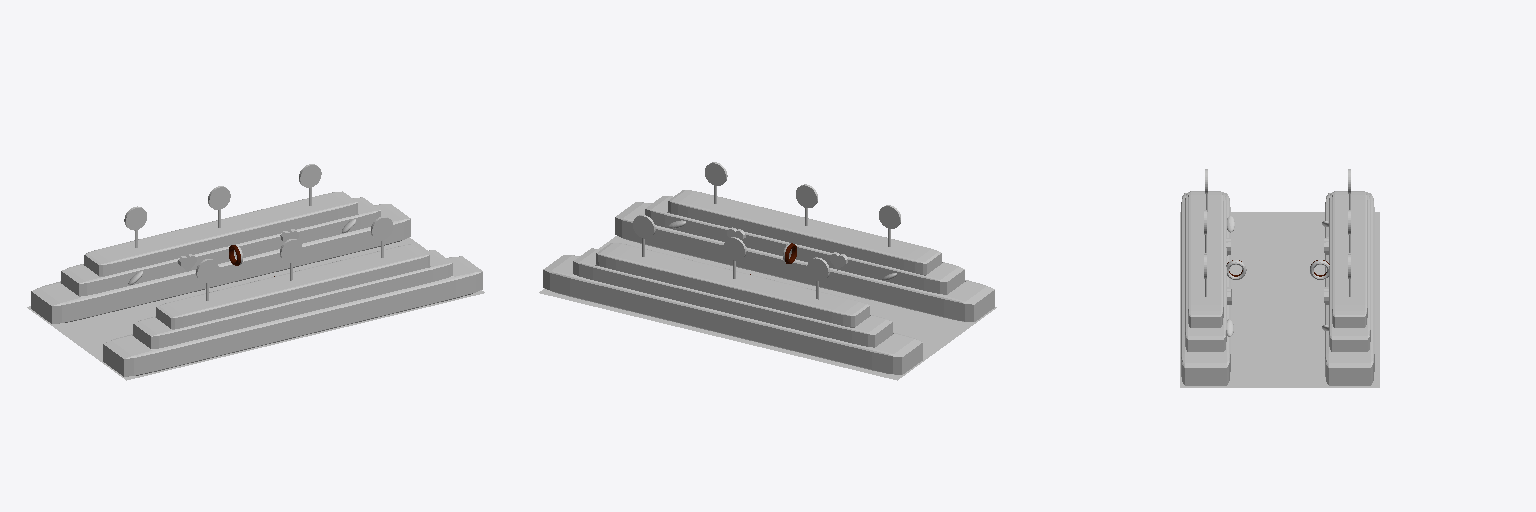
File: Juego_Pelota.obj
3 renders of one model, left to right at view 1: azimuth 30°, elevation 25°; view 2: azimuth 150°, elevation 25°; view 3: azimuth 270°, elevation 25°, orthographic.
Visible parts, largest first — view 1: Juego_Pelota_Material.030, Juego_Pelota_Material.029; view 2: Juego_Pelota_Material.030, Juego_Pelota_Material.029; view 3: Juego_Pelota_Material.030, Juego_Pelota_Material.029.
Part boxes in pixels (x1,y1,x2,y2): Juego_Pelota_Material.030: (31,191,482,376); Juego_Pelota_Material.029: (27,237,484,380); Juego_Pelota_Material.030: (543,190,994,374); Juego_Pelota_Material.029: (539,236,996,380); Juego_Pelota_Material.030: (1181,191,1374,385); Juego_Pelota_Material.029: (1180,212,1379,387).
Size of the model in its own units: 10 by 2.35 by 4.84.